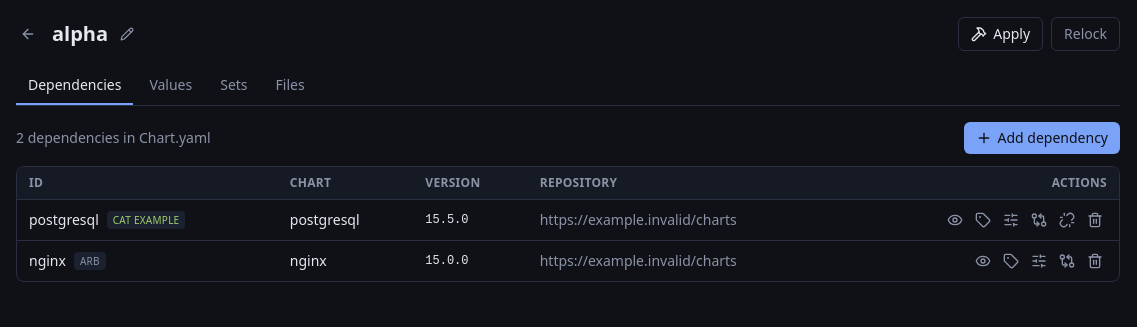
Instance page › surfaces a failed apply
Expected: the text "2 dependencies in Chart.yaml" is shown, [16, 128, 211, 148]
Click the button "Apply": {"x": 1001, "y": 34} [958, 17, 1043, 51]
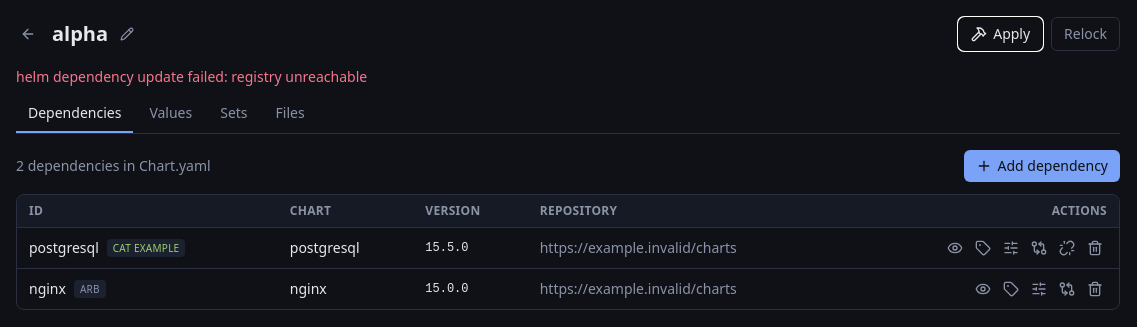
Expected: the text "helm dependency update failed: registry unreachable" is shown, [16, 67, 367, 86]
